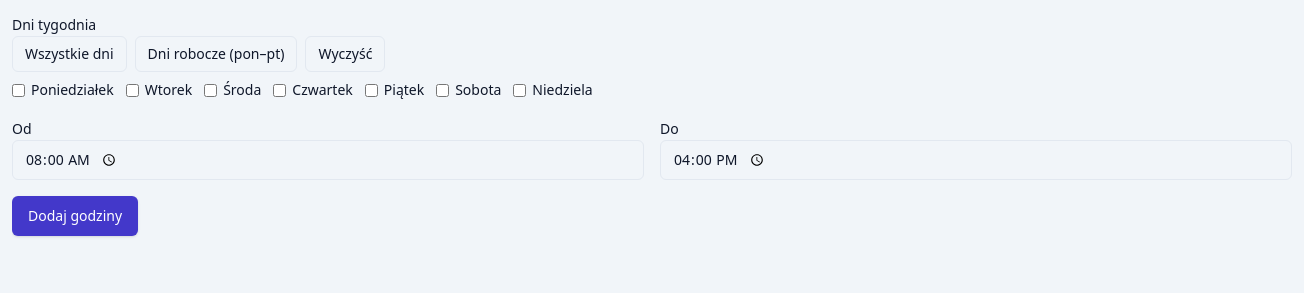
WorkingHoursForm — wiele dni naraz (fix: zapisywał się tylko jeden dzień) › blokuje wysyłkę bez zaznaczonego dnia
The width and height of the screenshot is (1304, 293).
What coordinates should you click on to do the following:
click the button "Dodaj godziny"
I would click on:
 (75, 216)
Its box is 12,196 -> 138,236.
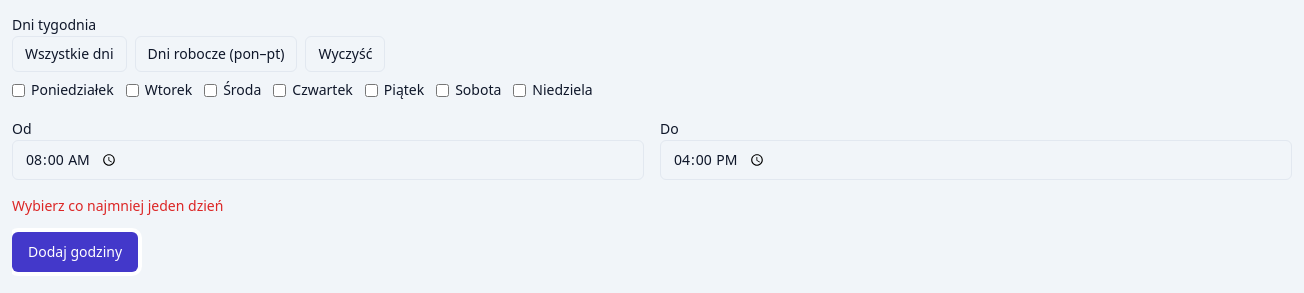
Check: the text "Wybierz co najmniej jeden dzień" is shown, box 12,196 -> 223,215
